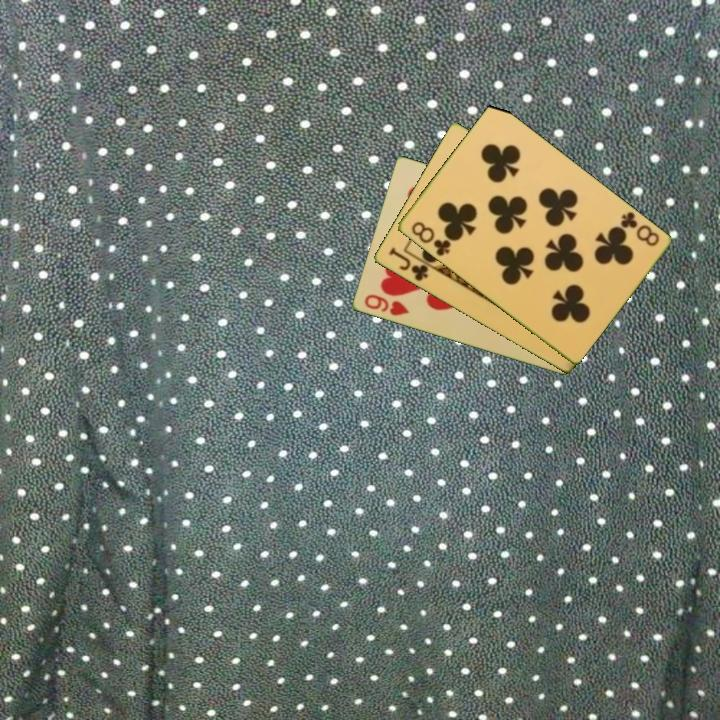8c: (407, 218, 453, 259), (616, 208, 662, 249)
9h: (360, 291, 412, 319)
Jc: (385, 244, 431, 284)
